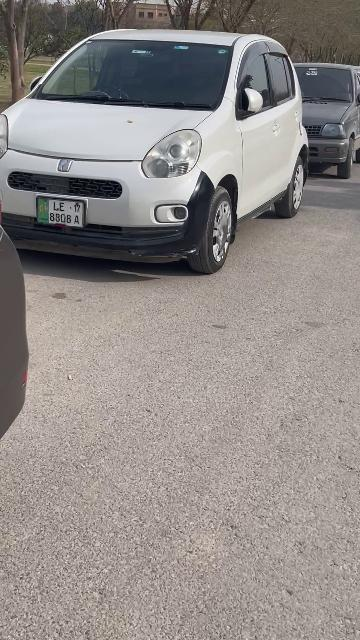plate: (36, 195, 86, 229)
